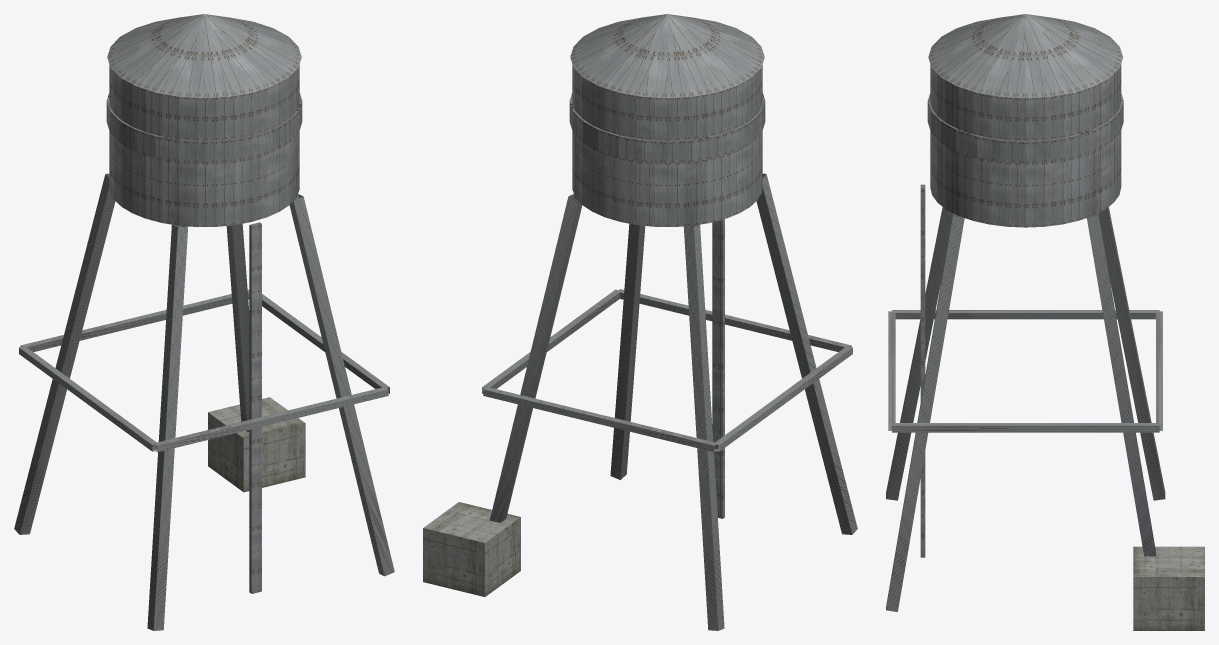
Rendered from water-tower-rural_lod0.gltf.
3 renders of one model, left to right at view 1: azimuth 30°, elevation 25°; view 2: azimuth 150°, elevation 25°; view 3: azimuth 270°, elevation 25°, orthographic.
Visible parts, largest first — view 1: water-tower-rural_legs, water-tower-rural_tank, water-tower-rural_cap, water-tower-rural__valve_house, water-tower-rural__name_band, water-tower-rural__ladder; view 2: water-tower-rural_legs, water-tower-rural_tank, water-tower-rural_cap, water-tower-rural__valve_house, water-tower-rural__name_band, water-tower-rural__ladder; view 3: water-tower-rural_legs, water-tower-rural_tank, water-tower-rural_cap, water-tower-rural__valve_house, water-tower-rural__name_band, water-tower-rural__ladder.
Boxes of the visible parts, left/top/right/bottom form: water-tower-rural_legs: left=14, top=173, right=394, bottom=630; water-tower-rural_tank: left=109, top=65, right=299, bottom=226; water-tower-rural_cap: left=107, top=14, right=301, bottom=98; water-tower-rural__valve_house: left=208, top=397, right=305, bottom=492; water-tower-rural__name_band: left=106, top=93, right=302, bottom=163; water-tower-rural__ladder: left=249, top=222, right=261, bottom=593; water-tower-rural_legs: left=482, top=173, right=857, bottom=630; water-tower-rural_tank: left=572, top=65, right=762, bottom=226; water-tower-rural_cap: left=570, top=14, right=764, bottom=98; water-tower-rural__valve_house: left=423, top=502, right=520, bottom=596; water-tower-rural__name_band: left=569, top=93, right=765, bottom=163; water-tower-rural__ladder: left=712, top=219, right=724, bottom=518; water-tower-rural_legs: left=886, top=207, right=1165, bottom=611; water-tower-rural_tank: left=930, top=64, right=1121, bottom=227; water-tower-rural_cap: left=928, top=14, right=1122, bottom=98; water-tower-rural__valve_house: left=1133, top=546, right=1204, bottom=630; water-tower-rural__name_band: left=927, top=93, right=1123, bottom=163; water-tower-rural__ladder: left=920, top=184, right=925, bottom=557.
Bounding box in the file's own units: 13.35 × 25 × 13.35.
